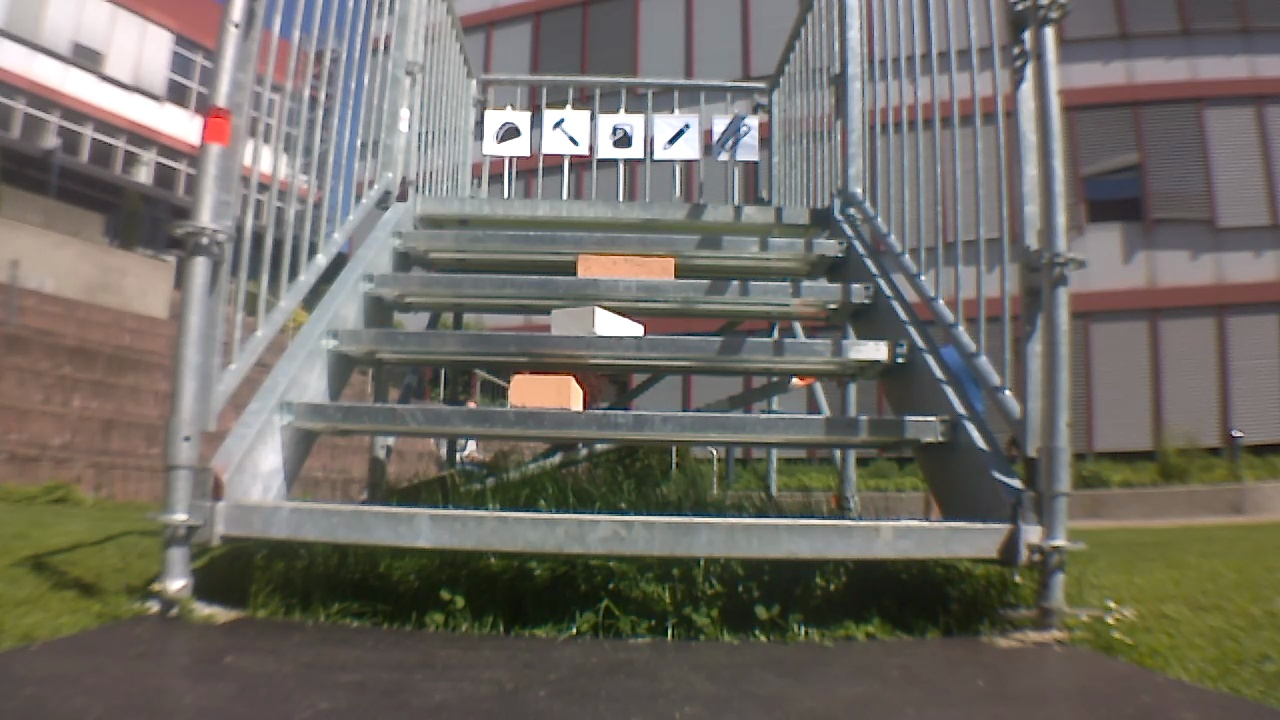brick: (568, 252, 680, 280), (551, 305, 642, 335), (506, 377, 583, 407)
bucket: (600, 120, 638, 149)
edge: (211, 518, 1018, 558), (280, 400, 954, 442), (322, 329, 910, 356), (354, 279, 879, 303), (390, 231, 846, 256), (411, 198, 834, 220)
hammer: (546, 114, 583, 144)
pencil: (661, 120, 692, 149)
ruler: (720, 119, 752, 152)
stairs: (196, 0, 1075, 640)
steps: (219, 197, 1031, 550)
taco: (495, 118, 523, 146)
